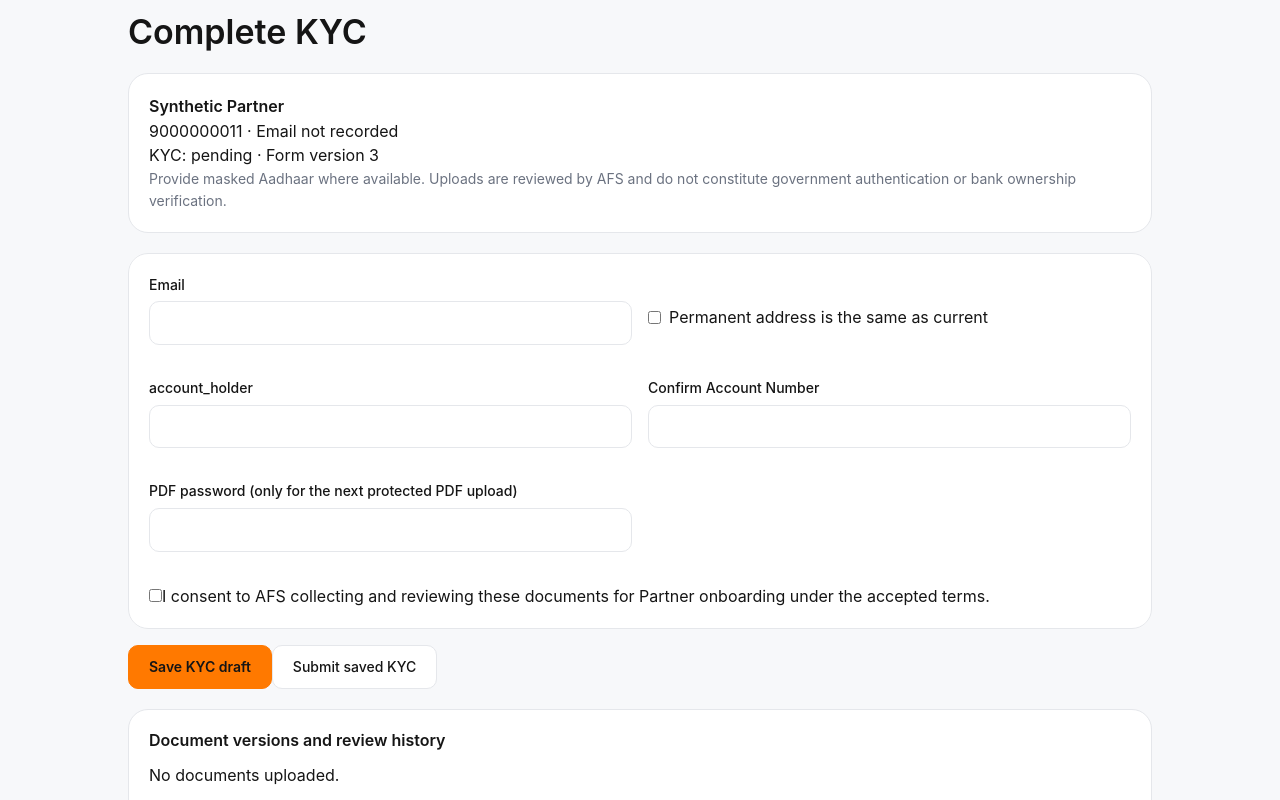
Test case: requires saving changed KYC answers before submitting the saved draft
Check: the button "Submit saved KYC" is enabled, box [272, 646, 437, 689]
Type "Unsaved edit" into the field labelled "account_holder" at (390, 426), box [149, 405, 632, 448]
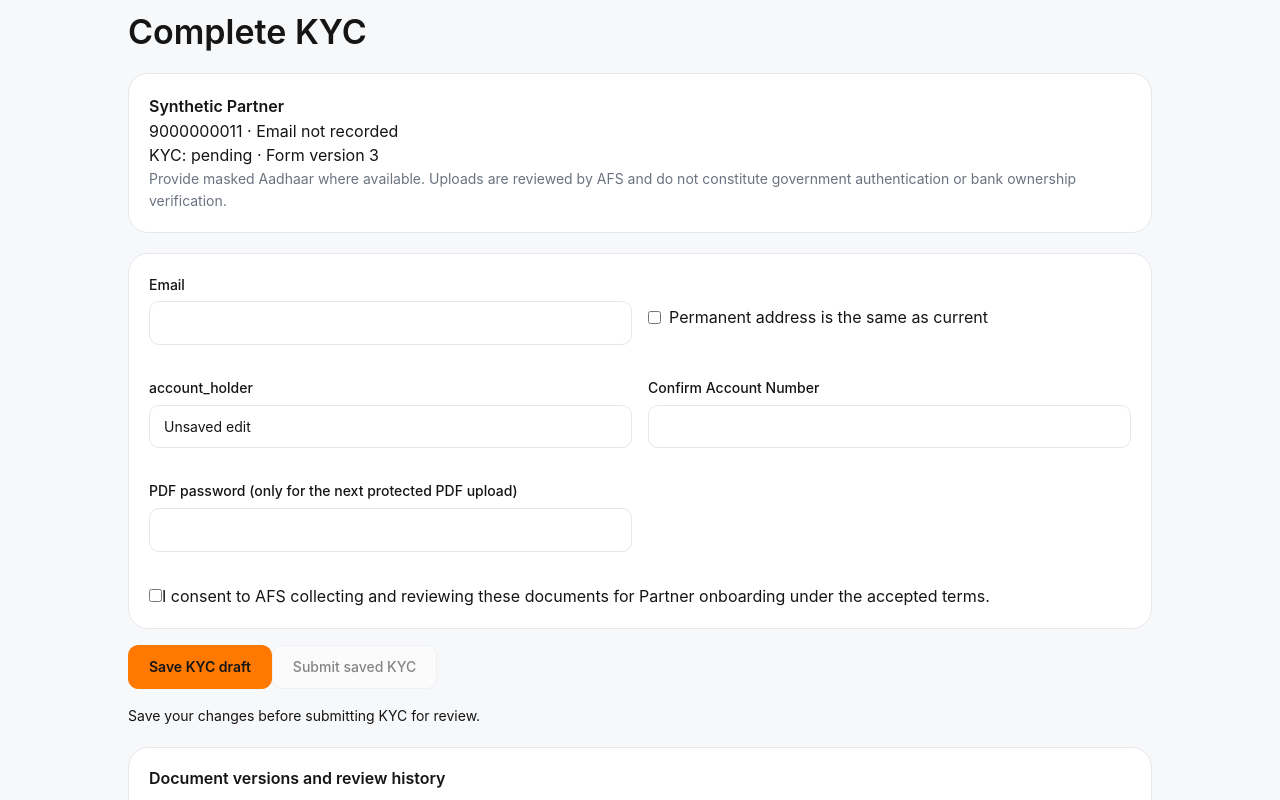
Check: the button "Submit saved KYC" is disabled, box [272, 646, 437, 689]
Check: the text "Save your changes before submitting KYC for review." is shown, box [128, 707, 480, 724]
